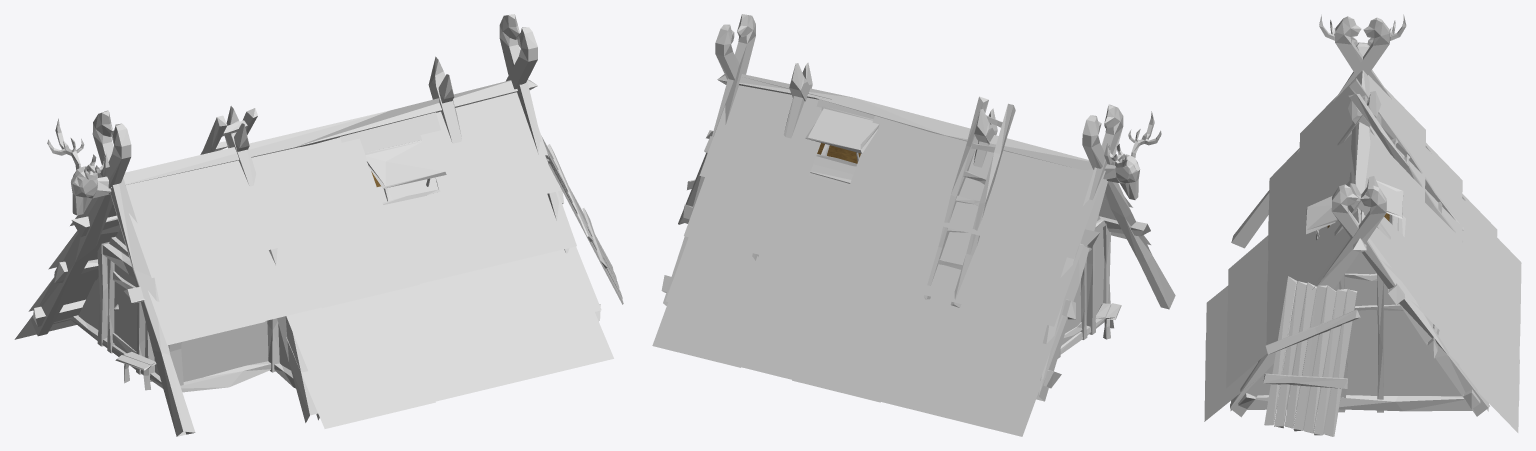
Rendered from House_three.fbx.
3 renders of one model, left to right at view 1: azimuth 30°, elevation 25°; view 2: azimuth 150°, elevation 25°; view 3: azimuth 270°, elevation 25°, orthographic. The views are drawn at different scales.
Visible parts, largest first — view 1: Без имени-1.133, балки.002, корпус; view 2: Без имени-1.133, балки.002, корпус; view 3: Без имени-1.133, балки.002, корпус.
Boxes of the visible parts, left/top/right/bottom form: Без имени-1.133: left=14, top=92, right=613, bottom=428; балки.002: left=31, top=14, right=623, bottom=436; корпус: left=53, top=139, right=421, bottom=381; Без имени-1.133: left=652, top=78, right=1150, bottom=436; балки.002: left=661, top=14, right=1175, bottom=401; корпус: left=1061, top=195, right=1116, bottom=345; Без имени-1.133: left=1204, top=75, right=1521, bottom=432; балки.002: left=1230, top=14, right=1489, bottom=436; корпус: left=1230, top=252, right=1488, bottom=411.
Size of the model in its own units: 2068 by 1081 by 1254.
1 material, 1 textured.
